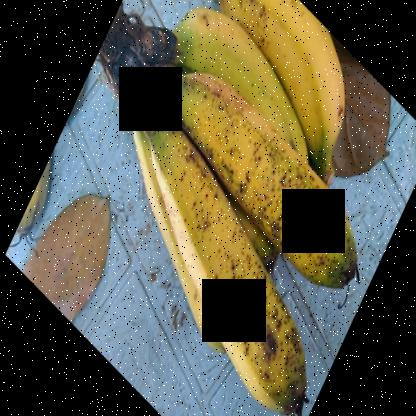ripe: (174, 76, 372, 305), (152, 112, 313, 392), (206, 1, 353, 158)
